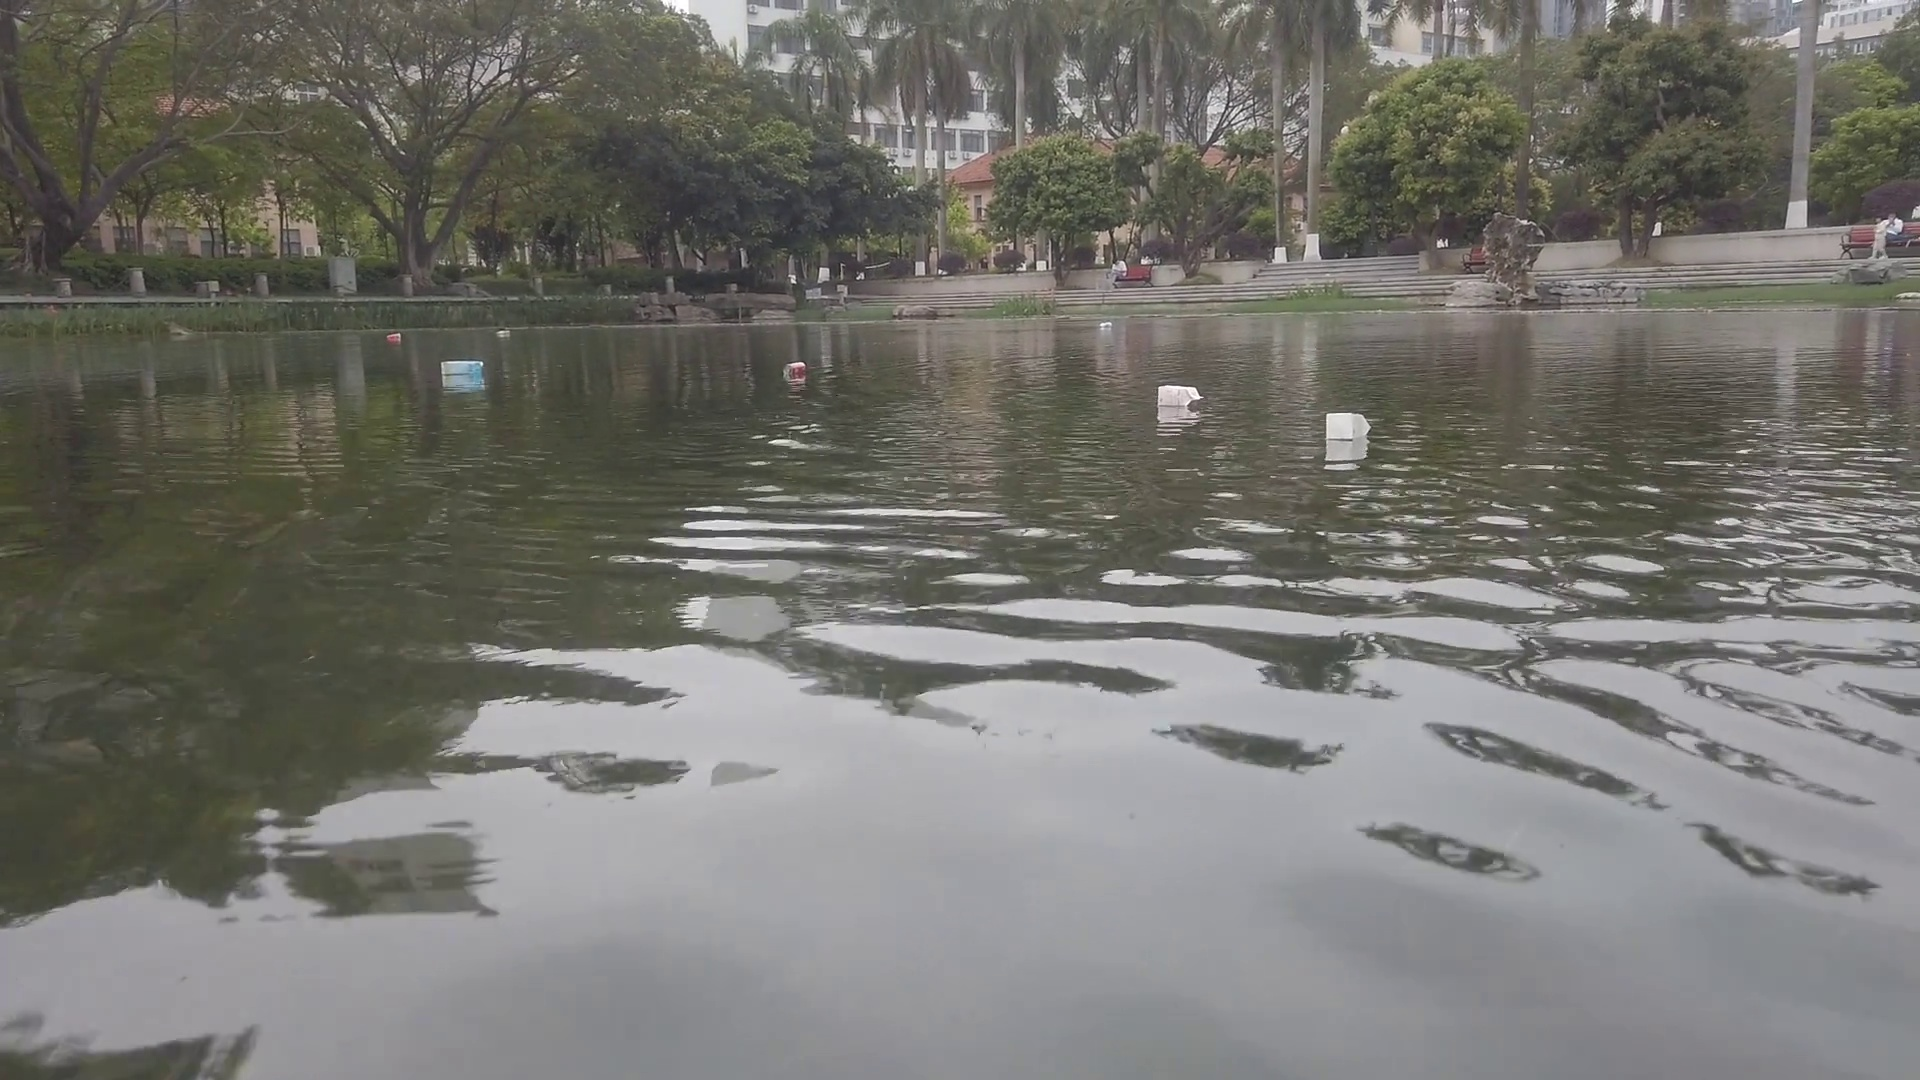bottle: (783, 361, 803, 380), (495, 328, 512, 338), (384, 332, 400, 342), (1098, 319, 1112, 327)
carton: (1156, 381, 1203, 411), (1327, 411, 1370, 440), (439, 359, 485, 377)
